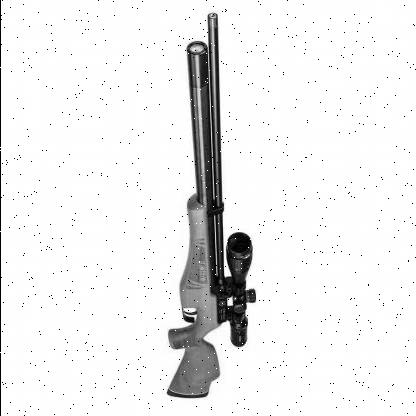rifle: (135, 15, 261, 410)
